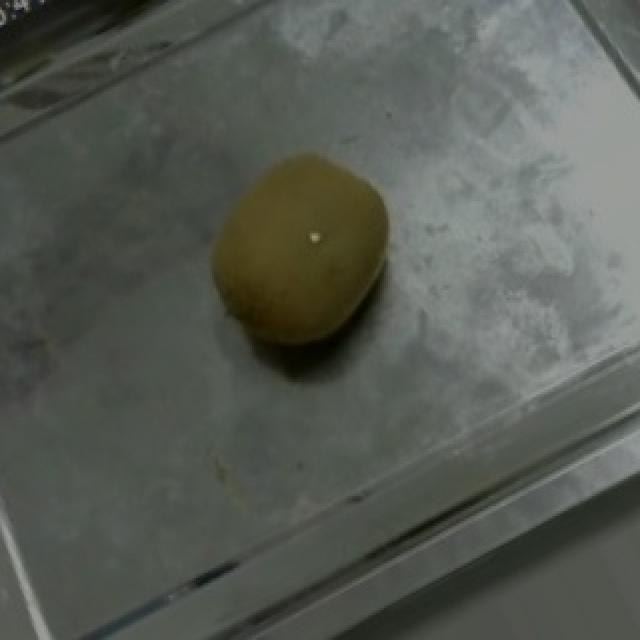Fruit: (166, 114, 426, 390)
